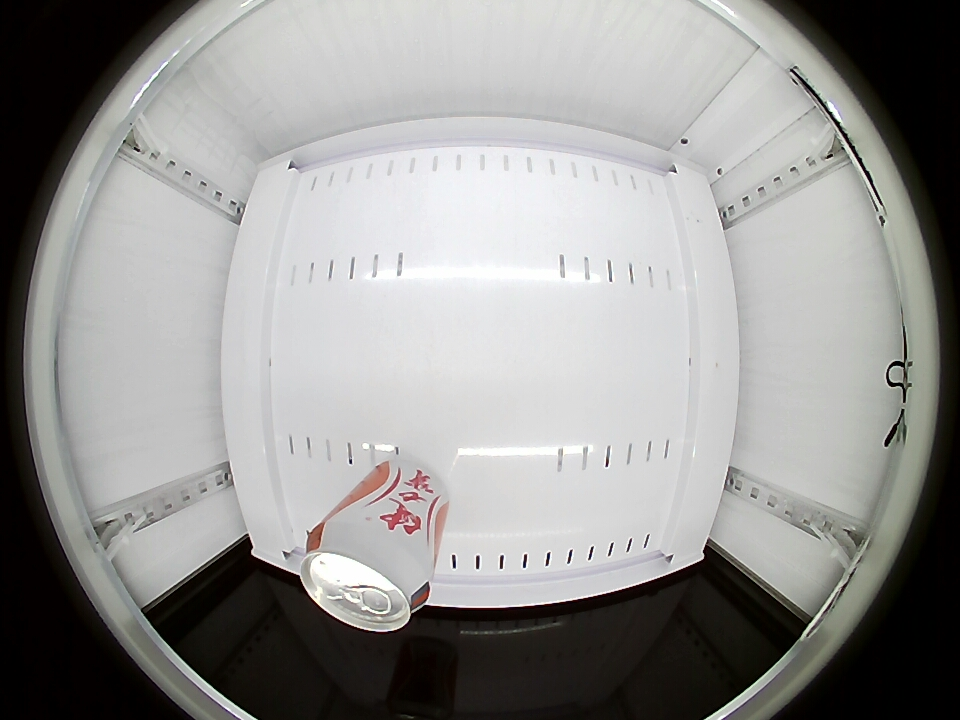jianlibao: (301, 520, 431, 632)
